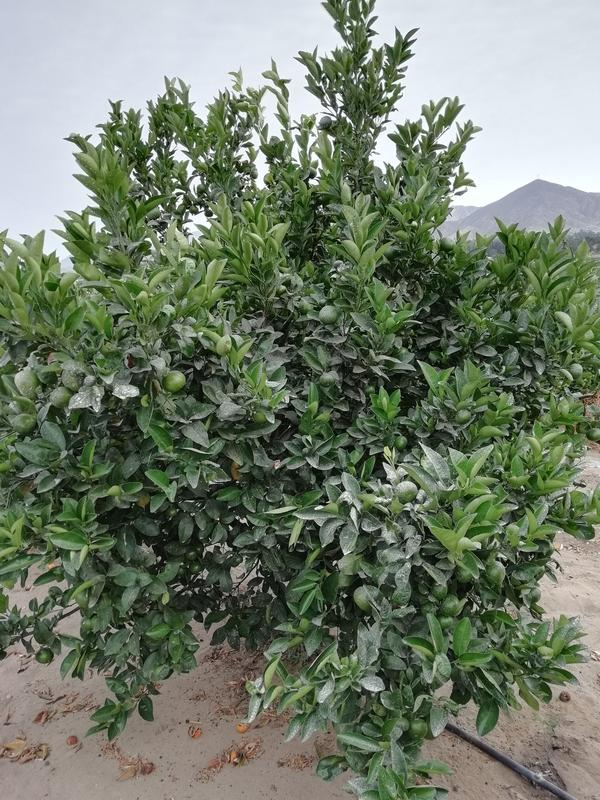mandarina verde: (163, 369, 186, 393), (12, 412, 36, 435), (440, 595, 462, 616), (397, 480, 418, 502), (50, 386, 72, 407), (487, 559, 506, 582), (319, 305, 340, 323), (409, 719, 427, 740), (35, 648, 54, 664), (454, 408, 472, 424), (568, 361, 583, 379), (318, 371, 334, 387), (188, 560, 203, 575), (528, 586, 541, 603), (438, 616, 453, 630), (586, 427, 600, 441), (185, 547, 198, 561), (397, 433, 408, 449), (319, 114, 331, 128), (81, 619, 93, 631), (204, 208, 213, 217)
